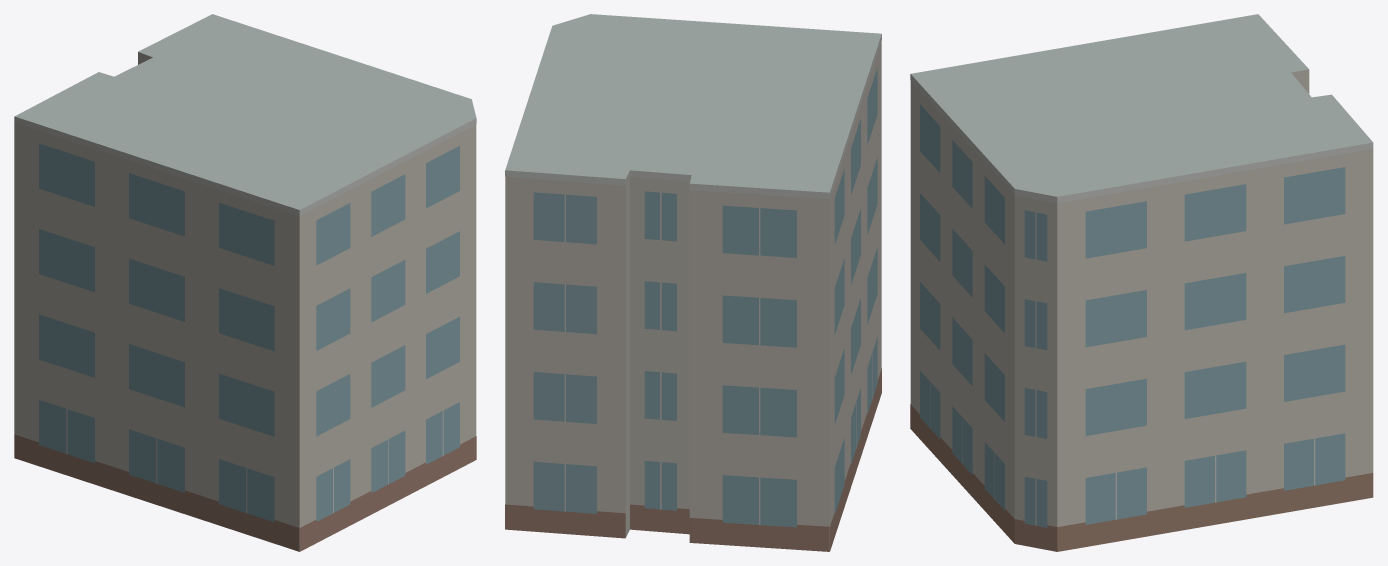
File: survey-upis-32863582.glb
3 views of the same model, side by side, from view 1: azimuth 30°, elevation 25°; view 2: azimuth 150°, elevation 25°; view 3: azimuth 270°, elevation 25° (orthographic). The views are drawn at different scales.
Visible parts, largest first — view 1: survey-upis-32863582.tmp; view 2: survey-upis-32863582.tmp; view 3: survey-upis-32863582.tmp.
Boxes of the visible parts, bbox=[...] form: survey-upis-32863582.tmp: bbox=[14, 14, 476, 551]; survey-upis-32863582.tmp: bbox=[505, 14, 881, 551]; survey-upis-32863582.tmp: bbox=[910, 14, 1373, 551].
Bounding box in the file's own units: 14.97 × 13.54 × 16.01.
